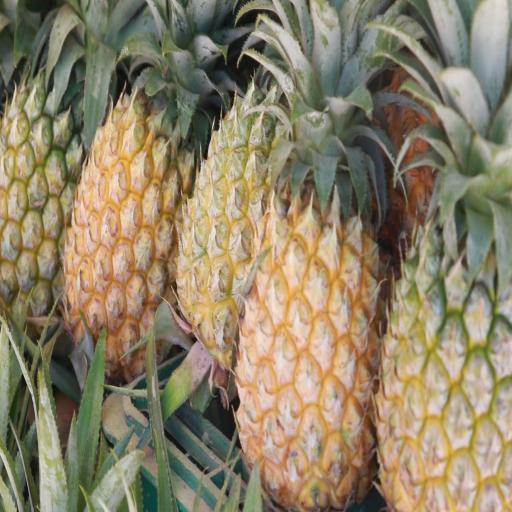------------------------------: (371, 57, 512, 512), (0, 10, 81, 331)
Pineapple - v8 v1: (227, 80, 384, 512), (59, 17, 198, 383), (168, 19, 295, 364)
